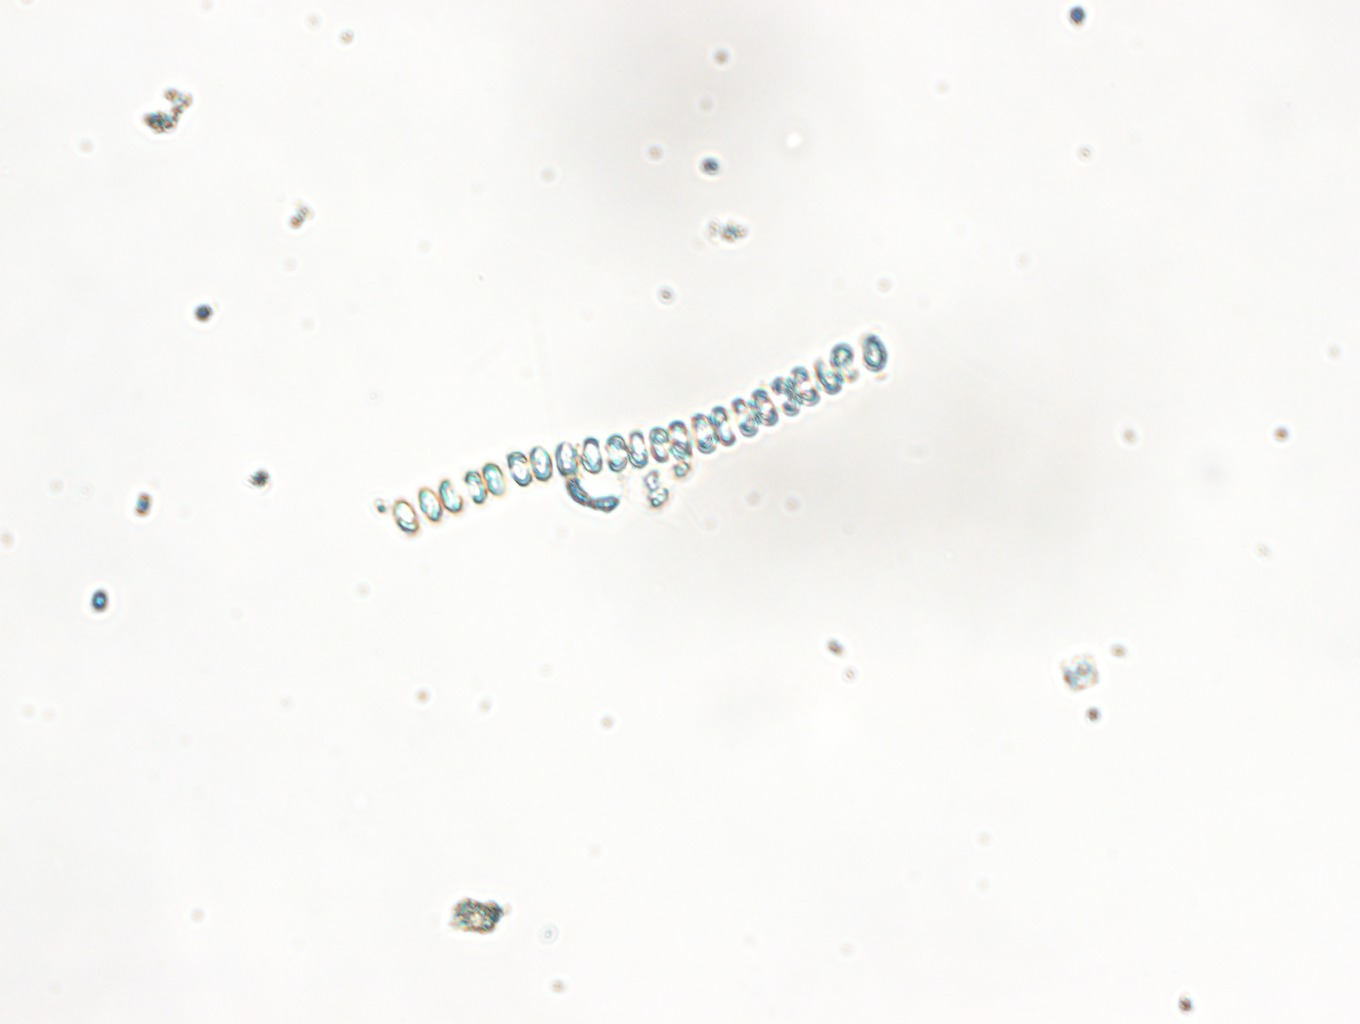skeletonema: (370, 326, 896, 545)
